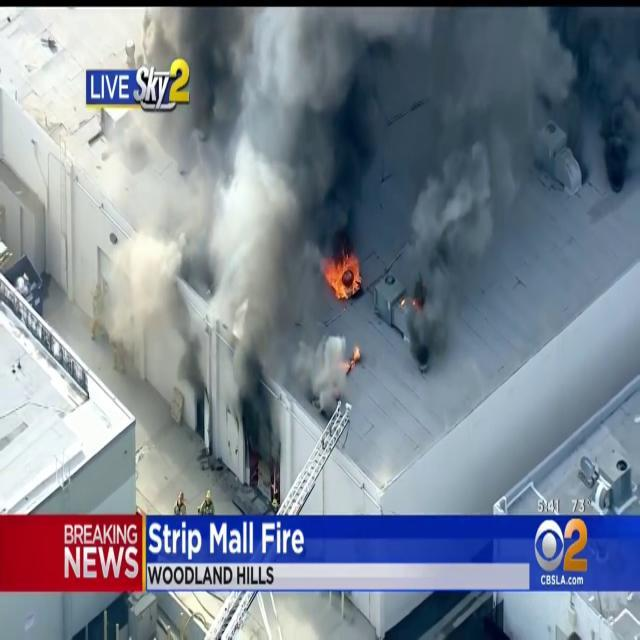Fire: (322, 240, 364, 304)
Smoke: (108, 3, 376, 454), (392, 0, 640, 308)
